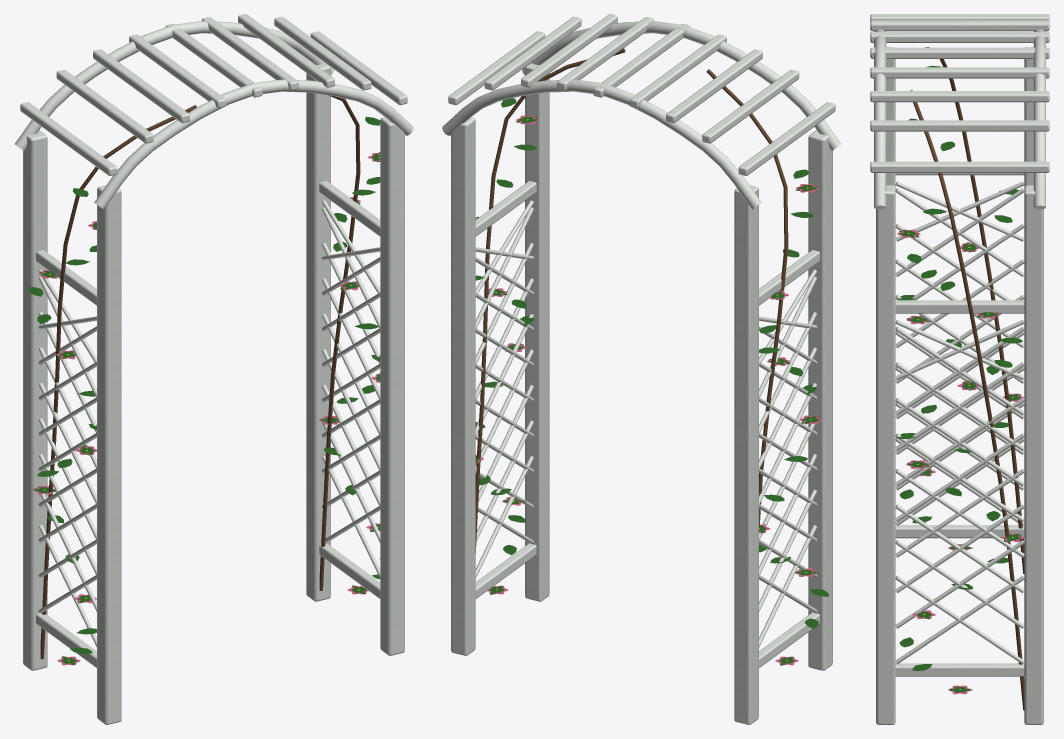
The model's file is GardenArbor.gltf.
The picture shows the model from 3 angles, left to right: view 1: azimuth 30°, elevation 25°; view 2: azimuth 150°, elevation 25°; view 3: azimuth 270°, elevation 25°; orthographic projection.
Parts seen in each view (by area): view 1: GardenArbor__Body, GardenArbor__Post_1_0.91, GardenArbor__Post_-1_0.91, GardenArbor__Post_-1_-0.91, GardenArbor__Post_1_-0.91, GardenArbor__Plants, GardenArbor__Arch_0.98, GardenArbor__Arch_-0.98; view 2: GardenArbor__Body, GardenArbor__Post_1_-0.91, GardenArbor__Post_-1_-0.91, GardenArbor__Post_-1_0.91, GardenArbor__Post_1_0.91, GardenArbor__Plants, GardenArbor__Arch_-0.98, GardenArbor__Arch_0.98; view 3: GardenArbor__Body, GardenArbor__Post_1_-0.91, GardenArbor__Post_1_0.91, GardenArbor__Plants, GardenArbor__Arch_-0.98, GardenArbor__Arch_0.98, GardenArbor__Post_-1_-0.91, GardenArbor__Post_-1_0.91.
Boxes of the visible parts, <box> form: GardenArbor__Body: <box>20,14,407,667</box>; GardenArbor__Post_1_0.91: <box>380,117,404,655</box>; GardenArbor__Post_-1_0.91: <box>97,185,121,724</box>; GardenArbor__Post_-1_-0.91: <box>23,130,47,670</box>; GardenArbor__Post_1_-0.91: <box>306,63,330,601</box>; GardenArbor__Plants: <box>28,95,380,665</box>; GardenArbor__Arch_0.98: <box>94,79,413,209</box>; GardenArbor__Arch_-0.98: <box>14,21,333,150</box>; GardenArbor__Body: <box>448,14,835,667</box>; GardenArbor__Post_1_-0.91: <box>451,117,475,655</box>; GardenArbor__Post_-1_-0.91: <box>734,185,758,724</box>; GardenArbor__Post_-1_0.91: <box>808,130,832,670</box>; GardenArbor__Post_1_0.91: <box>525,63,549,601</box>; GardenArbor__Plants: <box>475,48,829,665</box>; GardenArbor__Arch_-0.98: <box>442,79,761,209</box>; GardenArbor__Arch_0.98: <box>522,21,841,150</box>; GardenArbor__Body: <box>870,14,1049,676</box>; GardenArbor__Post_1_-0.91: <box>1024,185,1043,724</box>; GardenArbor__Post_1_0.91: <box>876,185,895,724</box>; GardenArbor__Plants: <box>897,47,1024,710</box>; GardenArbor__Arch_-0.98: <box>1033,29,1045,209</box>; GardenArbor__Arch_0.98: <box>874,29,886,209</box>; GardenArbor__Post_-1_-0.91: <box>1024,47,1033,186</box>; GardenArbor__Post_-1_0.91: <box>886,47,895,186</box>.
Size of the model in its own units: 1.29 by 2.3 by 0.616.
1 material, 1 textured.
